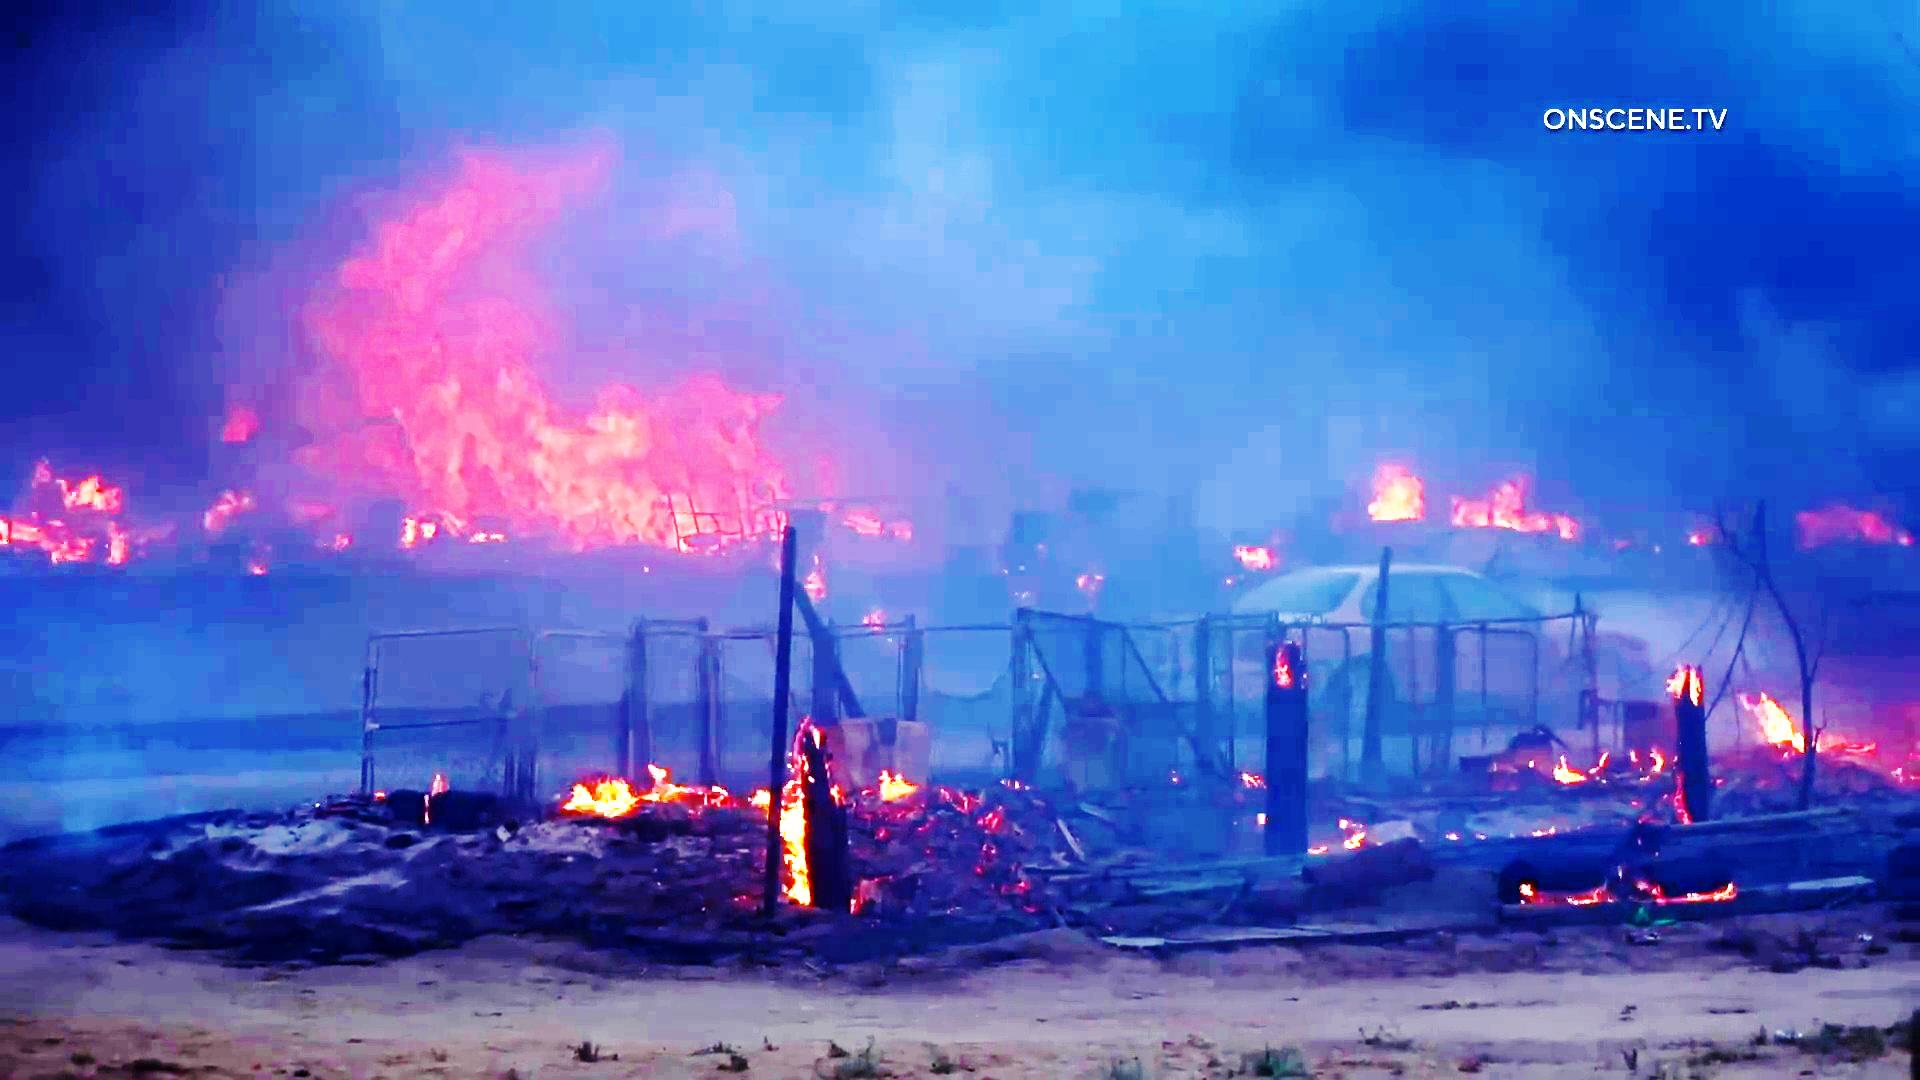fire: (335, 186, 800, 541)
